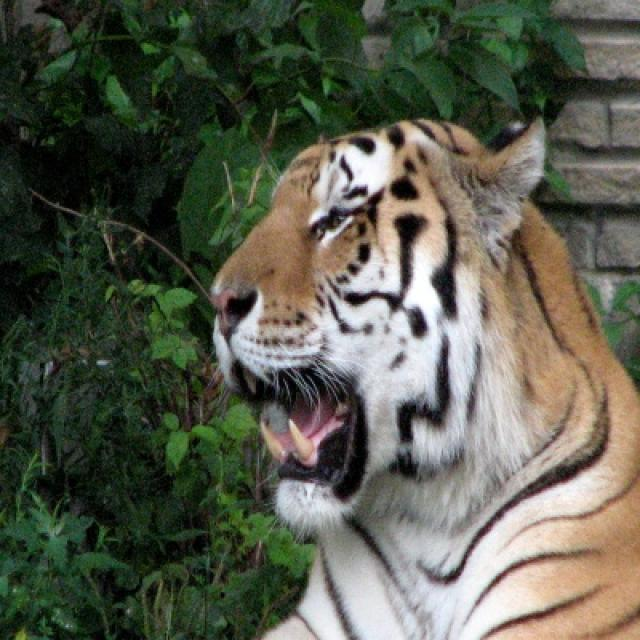Tiger: (207, 115, 638, 636)
